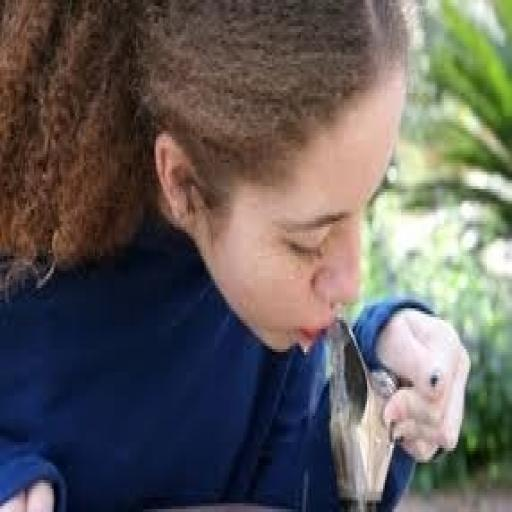drinking: (30, 0, 404, 509)
